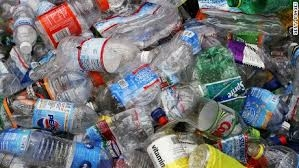plastic: (165, 86, 265, 144), (53, 34, 153, 79), (11, 97, 113, 135), (35, 1, 111, 48), (10, 2, 40, 54)
